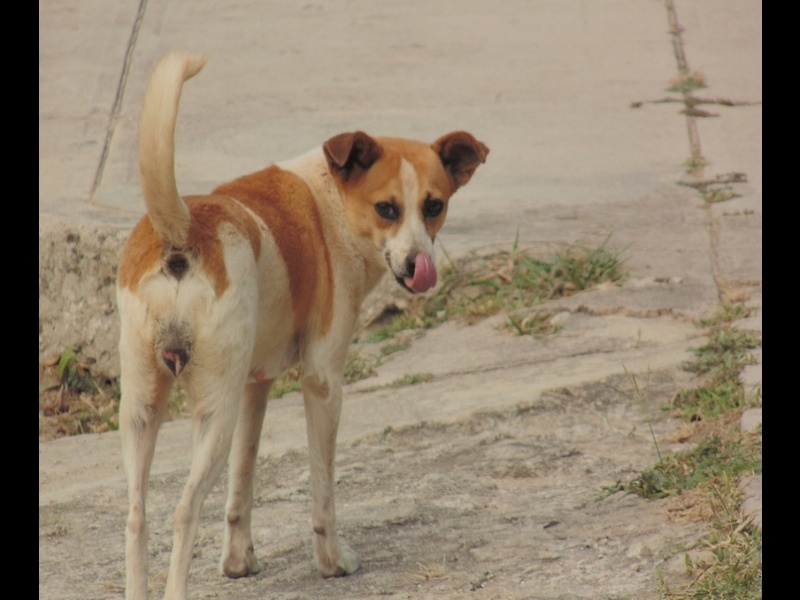dog: (105, 96, 494, 600)
